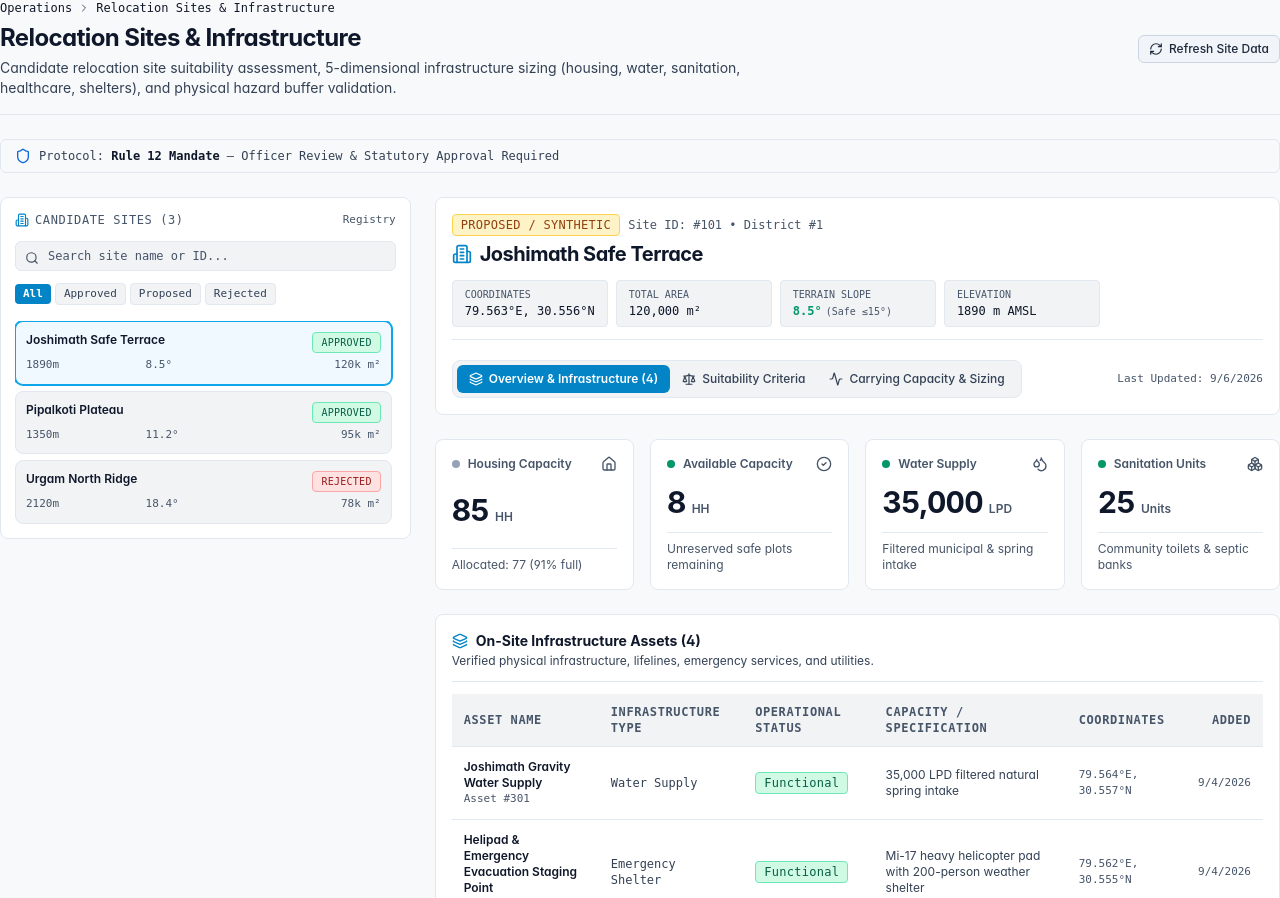
Test: Relocation Site Details & Infrastructure UI Suite (Chunk M6-03) › Carrying Capacity & Sizing (M4-03) Tab › renders weakest-link invariant, limiting factor, and 5-dimensional sizing grid
The width and height of the screenshot is (1280, 898).
Click the tab named "Carrying Capacity & Sizing (M4-03)" at (917, 379), box left=817, top=365, right=1017, bottom=393
(page scrolled)
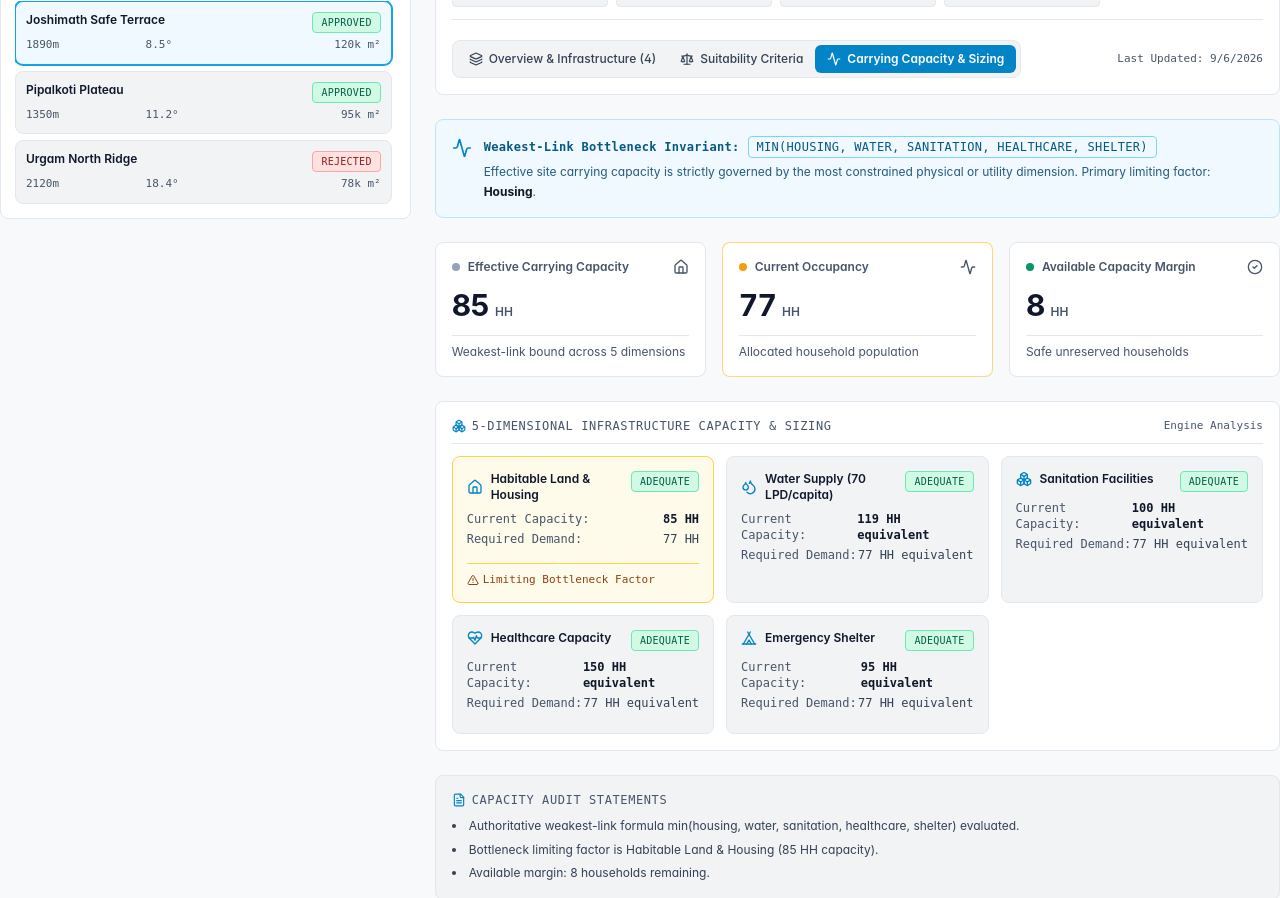
Result: the text "Weakest-Link Bottleneck Invariant:" is shown at left=484, top=139, right=740, bottom=155
Result: the text "Limiting Bottleneck Factor" is shown at left=483, top=572, right=655, bottom=588
Result: the text "Habitable Land & Housing" is shown at left=491, top=470, right=590, bottom=502
